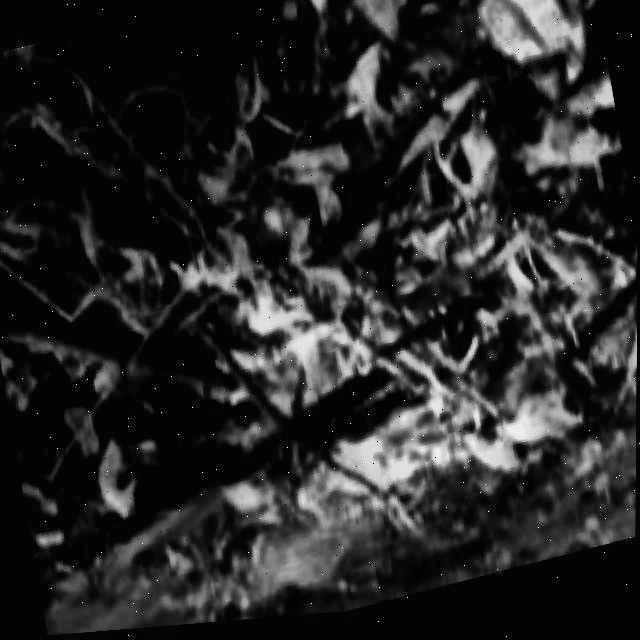Fire: (241, 221, 638, 526)
